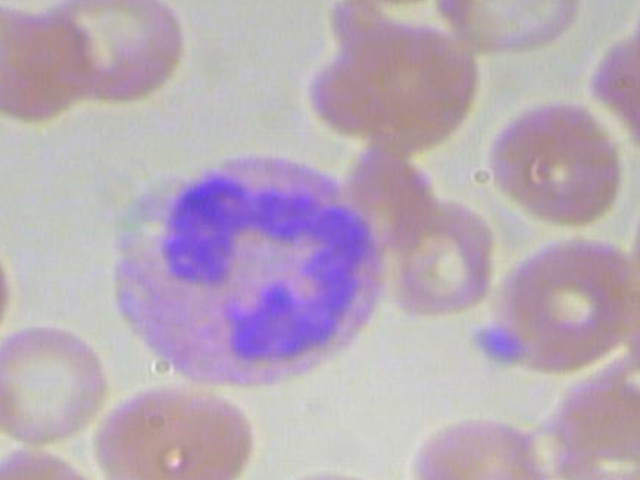Platelets: (465, 317, 523, 373)
RBC: (300, 17, 493, 160), (481, 230, 640, 383), (460, 100, 621, 231), (75, 376, 257, 480), (40, 0, 199, 109), (0, 321, 117, 455), (403, 416, 560, 480), (437, 0, 589, 58), (0, 228, 30, 357), (0, 360, 3, 480)
WBC: (91, 136, 389, 400)
